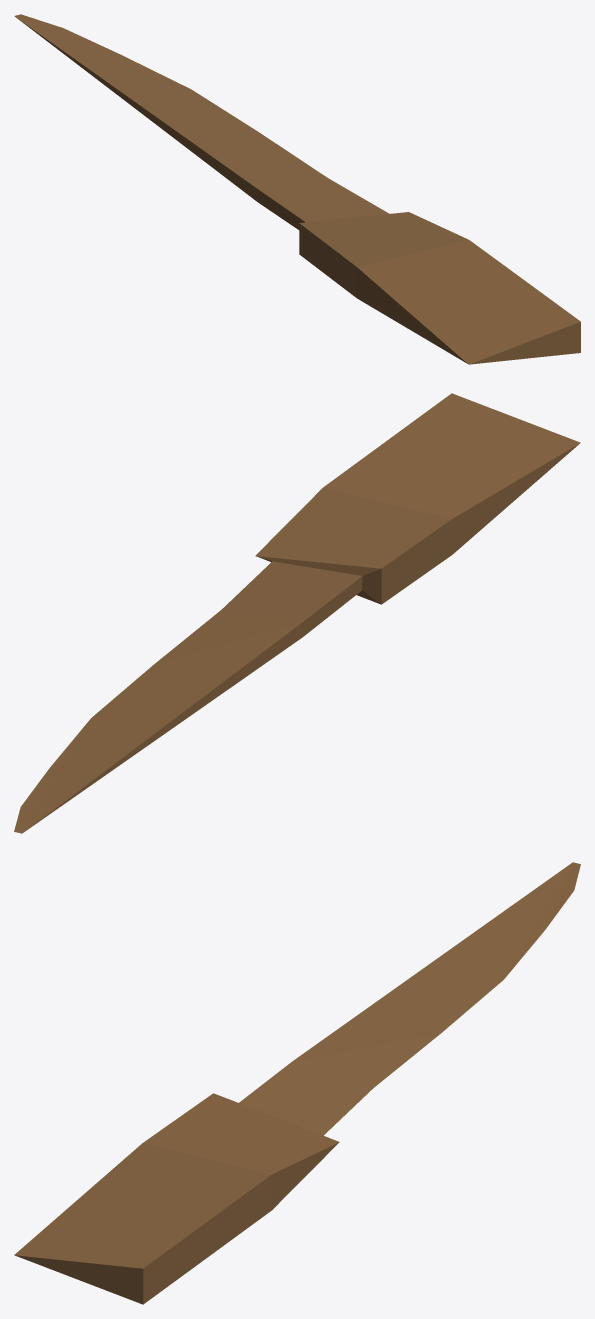
The model's file is Knife.fbx.
The picture shows the model from 3 angles, top to bottom: view 1: azimuth 30°, elevation 25°; view 2: azimuth 150°, elevation 25°; view 3: azimuth 330°, elevation 25°; orthographic projection. The views are drawn at different scales.
Parts seen in each view (by area): view 1: Knife; view 2: Knife; view 3: Knife.
Boxes of the visible parts, x1=… form: Knife: x1=14, y1=14, x2=580, y2=364; Knife: x1=14, y1=393, x2=580, y2=833; Knife: x1=14, y1=862, x2=580, y2=1304.
Size of the model in its own units: 1.4 by 0.3724 by 10.14.
